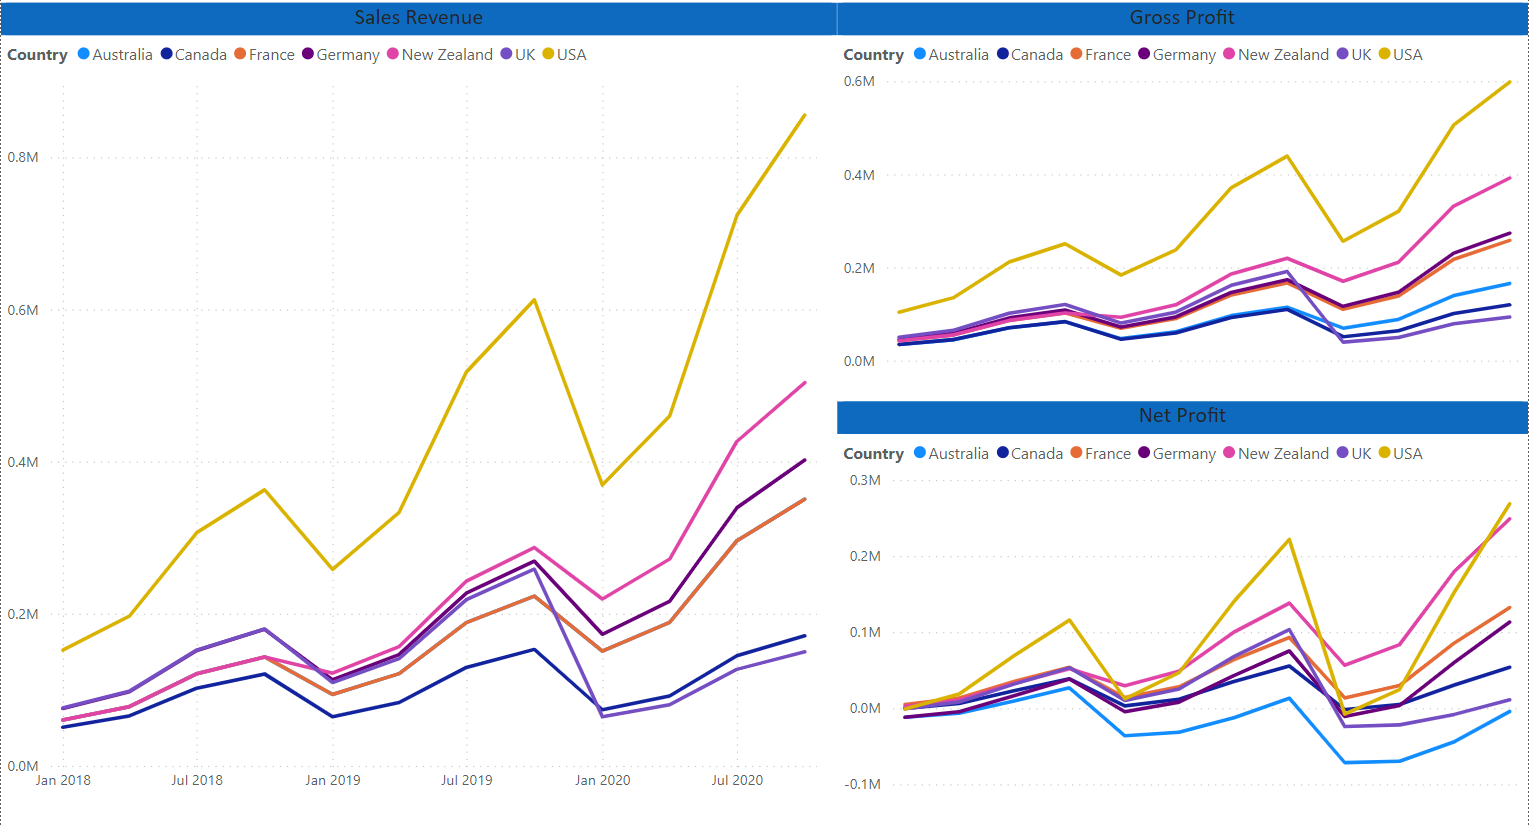

What the dashboard file says about the page in this screenshot:
{"tool":"powerbi","page":{"name":"Cross Country","canvas":[1280,720],"ordinal":2},"visuals":[{"type":"lineChart","title":"Sales Revenue","fields":{"Y":["Sum(tbl_GL.Amount)"],"Category":["tbl_Calendar.Date.Variation.Date Hierarchy.Year","tbl_Calendar.Date.Variation.Date Hierarchy.Quarter","tbl_Calendar.Date.Variation.Date Hierarchy.Month","tbl_Calendar.Date.Variation.Date Hierarchy.Day"],"Series":["tbl_territory.Country"]},"box":[0,27.9,701.2,669.8],"z":0},{"type":"lineChart","title":"Gross Profit","fields":{"Y":["Sum(tbl_GL.Amount)"],"Category":["tbl_Calendar.Date.Variation.Date Hierarchy.Year","tbl_Calendar.Date.Variation.Date Hierarchy.Quarter","tbl_Calendar.Date.Variation.Date Hierarchy.Month","tbl_Calendar.Date.Variation.Date Hierarchy.Day"],"Series":["tbl_territory.Country"]},"box":[701.2,27.9,579.1,314],"z":1000},{"type":"lineChart","title":"Net Profit","fields":{"Y":["Sum(tbl_GL.Amount)"],"Category":["tbl_Calendar.Date.Variation.Date Hierarchy.Year","tbl_Calendar.Date.Variation.Date Hierarchy.Quarter","tbl_Calendar.Date.Variation.Date Hierarchy.Month","tbl_Calendar.Date.Variation.Date Hierarchy.Day"],"Series":["tbl_territory.Country"]},"box":[701.2,362.8,579.1,334.9],"z":2000}]}

Visuals, with their boxes on the page's 1280x720 design canvas (x1, y1, x2, y2). These are canvas units, not pixel positions in the 1529x825 screenshot, which may show the page scaled, cropped or inside an application window:
"Sales Revenue" lineChart: left=0, top=28, right=701, bottom=698
"Gross Profit" lineChart: left=701, top=28, right=1280, bottom=342
"Net Profit" lineChart: left=701, top=363, right=1280, bottom=698
